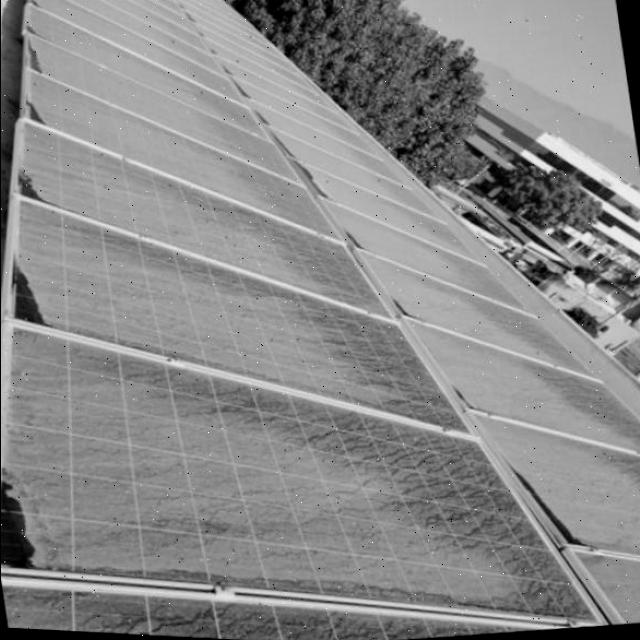Anomaly Solar Panel: (178, 0, 640, 625), (0, 333, 606, 627), (0, 206, 488, 463), (3, 128, 409, 347), (13, 74, 357, 255), (31, 0, 310, 191)
Surface Contaminant: (177, 0, 640, 625), (0, 337, 613, 640), (0, 208, 493, 467), (5, 127, 407, 342), (21, 79, 355, 249), (32, 0, 302, 186)
